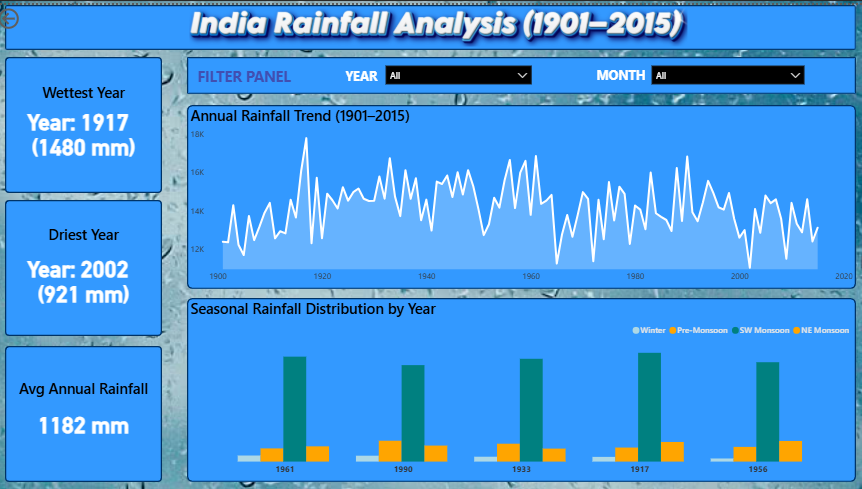

This screenshot's page, from the dashboard's own definition file:
{"tool":"powerbi","page":{"name":"Page 1","canvas":[1280,720],"ordinal":0},"visuals":[{"type":"shape","box":[282.1,76.4,983,54.4],"z":0},{"type":"shape","box":[14.7,0,1250.4,66.1],"z":1000},{"type":"shape","box":[282.1,430.5,983,270.4],"z":2000},{"type":"shape","box":[282.1,146.9,983,270.4],"z":3000},{"type":"shape","box":[14.7,501.1,230.7,199.8],"z":4000},{"type":"shape","box":[14.7,286.5,230.7,199.8],"z":5000},{"type":"shape","box":[14.7,76.4,230.7,199.8],"z":6000},{"type":"card","title":"Avg Annual Rainfall","fields":{"Values":["Rainfall.Average Annual Rainfall"]},"box":[14.7,548.1,230.7,105.8],"z":7000},{"type":"card","title":"Wettest Year","fields":{"Values":["Rainfall.Driest Year"]},"box":[14.7,113.1,230.7,120.5],"z":8000},{"type":"card","title":"Driest Year","fields":{"Values":["Rainfall.Driest Year Display"]},"box":[7.3,321.8,245.4,136.7],"z":9000},{"type":"lineChart","title":"Annual Rainfall Trend (1901–2015)","fields":{"Category":["Rainfall.YEAR"],"Y":["Sum(Rainfall.ANNUAL)"]},"box":[282.1,146.9,983,270.4],"z":10000},{"type":"clusteredColumnChart","title":"Seasonal Rainfall Distribution by Year","fields":{"Category":["Rainfall.YEAR"],"Y":["Sum(Rainfall.Jan-Feb)","Sum(Rainfall.Mar-May)","Sum(Rainfall.Jun-Sep)","Sum(Rainfall.Oct-Dec)"]},"box":[282.1,430.5,983,270.4],"z":11000},{"type":"actionButton","box":[0,0,100,40],"z":12000},{"type":"slicer","fields":{"Values":["Rainfall.MONTH"]},"box":[955.1,79.3,243.9,39.7],"z":13000},{"type":"textbox","box":[349.7,5.9,605.4,54.4],"z":14000},{"type":"textbox","box":[292.4,85.2,189.6,54.4],"z":15000},{"type":"textbox","box":[878.7,85.2,132.2,54.4],"z":16000},{"type":"slicer","fields":{"Values":["Rainfall.YEAR"]},"box":[564.2,79.3,233.6,39.7],"z":17000},{"type":"textbox","box":[509.9,86.7,107.3,54.4],"z":18000},{"type":"image","box":[217.5,0,868.4,66.1],"z":18001}]}

Visuals, with their boxes in screenshot pixels (x1, y1, x2, y2), scaled from the page's 1280x720 canvas onto the 862x489 screenshot:
shape: bbox(190, 52, 852, 89)
shape: bbox(10, 0, 852, 45)
shape: bbox(190, 292, 852, 476)
shape: bbox(190, 100, 852, 283)
shape: bbox(10, 340, 165, 476)
shape: bbox(10, 195, 165, 330)
shape: bbox(10, 52, 165, 188)
"Avg Annual Rainfall" card: bbox(10, 372, 165, 444)
"Wettest Year" card: bbox(10, 77, 165, 159)
"Driest Year" card: bbox(5, 219, 170, 311)
"Annual Rainfall Trend (1901–2015)" lineChart: bbox(190, 100, 852, 283)
"Seasonal Rainfall Distribution by Year" clusteredColumnChart: bbox(190, 292, 852, 476)
actionButton: bbox(0, 0, 67, 27)
slicer - Rainfall.MONTH: bbox(643, 54, 807, 81)
textbox: bbox(236, 4, 643, 41)
textbox: bbox(197, 58, 325, 95)
textbox: bbox(592, 58, 681, 95)
slicer - Rainfall.YEAR: bbox(380, 54, 537, 81)
textbox: bbox(343, 59, 416, 96)
image: bbox(146, 0, 731, 45)
